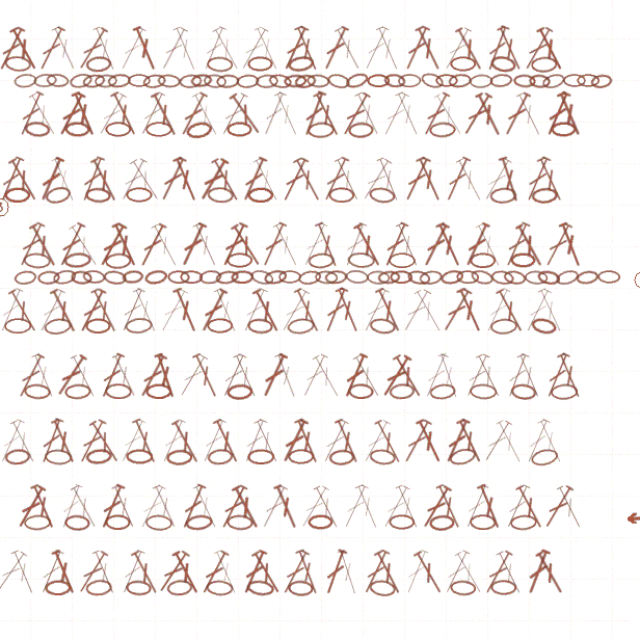chain: (442, 432, 471, 453), (53, 180, 81, 201), (521, 433, 549, 453), (189, 118, 216, 138), (521, 307, 548, 327), (287, 55, 314, 74), (482, 55, 509, 74), (365, 182, 392, 200), (53, 308, 80, 326), (287, 308, 314, 326), (189, 497, 216, 515), (248, 560, 275, 578), (342, 71, 367, 90), (366, 308, 392, 326), (424, 371, 450, 389), (502, 371, 528, 389), (366, 434, 392, 452), (366, 560, 392, 578), (72, 245, 99, 262), (345, 245, 372, 262), (131, 308, 158, 325), (415, 71, 439, 90), (15, 56, 41, 73), (93, 56, 119, 73), (34, 119, 60, 136), (210, 182, 236, 199), (385, 371, 411, 388), (15, 434, 41, 451), (93, 434, 119, 451), (210, 434, 236, 451), (93, 560, 119, 577), (171, 560, 197, 577), (325, 72, 349, 90), (532, 72, 556, 90), (482, 183, 509, 199), (33, 246, 60, 262), (251, 261, 275, 279), (463, 261, 487, 279), (545, 261, 569, 279), (209, 561, 236, 577), (307, 120, 333, 136), (424, 120, 450, 136), (522, 183, 548, 199), (307, 246, 333, 262), (483, 309, 509, 325), (34, 372, 60, 388), (73, 372, 99, 388), (463, 372, 489, 388), (541, 372, 567, 388), (54, 435, 80, 451), (327, 435, 353, 451), (34, 498, 60, 514), (151, 498, 177, 514), (229, 498, 255, 514), (502, 498, 528, 514), (77, 72, 101, 89), (61, 261, 85, 278), (149, 261, 173, 278), (264, 261, 288, 278), (434, 261, 458, 278), (210, 57, 235, 73), (522, 57, 547, 73), (346, 120, 371, 136), (93, 183, 118, 199), (112, 246, 137, 262), (249, 309, 274, 325), (229, 372, 254, 388), (171, 435, 196, 451), (73, 498, 98, 514), (424, 498, 449, 514), (132, 561, 157, 577), (288, 561, 313, 577), (444, 561, 469, 577), (151, 120, 177, 135), (132, 183, 158, 198), (385, 246, 411, 261), (15, 309, 41, 324), (112, 372, 138, 387), (132, 435, 158, 450), (249, 435, 275, 450), (297, 262, 321, 278), (402, 262, 426, 278), (527, 262, 551, 278), (249, 57, 274, 72), (444, 57, 469, 72), (73, 120, 98, 135), (112, 120, 137, 135), (229, 120, 254, 135), (541, 120, 566, 135), (15, 183, 40, 198), (249, 183, 274, 198), (327, 183, 352, 198), (229, 246, 254, 261), (463, 246, 488, 261), (502, 246, 527, 261), (93, 309, 118, 324), (210, 309, 235, 324), (151, 372, 176, 387), (346, 372, 371, 387), (288, 435, 313, 450), (112, 498, 137, 513), (307, 498, 332, 513), (385, 498, 410, 513), (463, 498, 488, 513), (54, 561, 79, 576), (483, 561, 508, 576), (90, 73, 113, 89), (148, 73, 171, 89), (269, 73, 292, 89), (24, 262, 47, 278), (110, 262, 133, 278), (218, 262, 241, 278), (414, 262, 437, 278), (483, 262, 506, 278), (495, 262, 518, 278), (565, 262, 588, 278), (294, 73, 316, 89), (579, 73, 601, 89), (24, 73, 47, 88), (43, 73, 66, 88), (55, 73, 78, 88), (114, 73, 137, 88), (442, 73, 465, 88), (482, 73, 505, 88), (90, 262, 113, 277), (202, 262, 225, 277), (323, 262, 346, 277), (343, 262, 366, 277), (194, 73, 216, 88), (380, 73, 402, 88), (128, 262, 150, 277), (162, 74, 185, 88), (183, 74, 206, 88), (238, 74, 261, 88), (374, 263, 397, 277), (102, 74, 124, 88), (207, 74, 229, 88), (219, 74, 241, 88), (257, 74, 279, 88), (284, 74, 306, 88), (306, 74, 328, 88), (463, 74, 485, 88), (505, 74, 527, 88), (47, 263, 69, 277), (314, 263, 336, 277), (364, 263, 386, 277), (516, 263, 538, 277), (520, 74, 541, 88), (79, 263, 100, 277), (134, 74, 156, 87), (364, 74, 386, 87), (394, 74, 416, 87), (430, 74, 452, 87), (553, 74, 575, 87), (566, 74, 588, 87), (172, 263, 194, 276), (184, 263, 206, 276), (233, 263, 255, 276), (279, 263, 301, 276), (386, 263, 408, 276), (450, 263, 472, 276), (586, 263, 608, 276)
double: (229, 90, 266, 135), (61, 342, 98, 387), (3, 531, 40, 576), (159, 531, 196, 576), (82, 27, 118, 73), (425, 90, 461, 136), (452, 90, 488, 136), (133, 153, 169, 199), (355, 153, 391, 199), (74, 216, 110, 262), (230, 216, 266, 262), (374, 342, 410, 388), (94, 405, 130, 451), (530, 468, 566, 514), (82, 531, 118, 577), (238, 27, 273, 73), (511, 27, 546, 73), (35, 90, 70, 136), (101, 90, 136, 136), (16, 153, 51, 199), (199, 153, 234, 199), (211, 153, 246, 199), (472, 153, 507, 199), (16, 279, 51, 325), (277, 279, 312, 325), (394, 279, 429, 325), (406, 279, 441, 325), (433, 279, 468, 325), (179, 342, 214, 388), (308, 342, 343, 388), (347, 342, 382, 388), (386, 342, 421, 388), (472, 405, 507, 451), (23, 468, 58, 514), (296, 468, 331, 514), (413, 468, 448, 514), (250, 531, 285, 577), (406, 531, 441, 577), (445, 531, 480, 577), (523, 531, 558, 577), (17, 27, 51, 73), (161, 27, 195, 73), (212, 27, 246, 73), (329, 27, 363, 73), (434, 27, 468, 73), (446, 27, 480, 73), (180, 90, 214, 136), (192, 90, 226, 136), (219, 90, 253, 136), (336, 90, 370, 136), (122, 153, 156, 199), (290, 153, 324, 199), (446, 153, 480, 199), (36, 216, 70, 262), (102, 216, 136, 262), (153, 216, 187, 262), (348, 216, 382, 262), (504, 216, 538, 262), (531, 216, 565, 262), (161, 279, 195, 325), (485, 279, 519, 325), (141, 342, 175, 388), (173, 405, 207, 451), (356, 405, 390, 451), (368, 405, 402, 451), (395, 405, 429, 451), (75, 468, 109, 514), (231, 468, 265, 514), (375, 468, 409, 514), (504, 468, 538, 514), (134, 531, 168, 577), (173, 531, 207, 577), (200, 531, 234, 577), (278, 531, 312, 577), (473, 531, 507, 577), (407, 26, 440, 73), (114, 89, 147, 136), (141, 89, 174, 136), (161, 152, 194, 199), (329, 152, 362, 199), (63, 215, 96, 262), (270, 215, 303, 262), (356, 278, 389, 325), (297, 341, 330, 388), (465, 341, 498, 388), (122, 404, 155, 451), (278, 404, 311, 451), (356, 530, 389, 577), (434, 530, 467, 577), (5, 27, 38, 73), (44, 27, 77, 73), (122, 27, 155, 73), (524, 27, 557, 73), (63, 90, 96, 136), (153, 90, 186, 136), (309, 90, 342, 136), (375, 90, 408, 136), (414, 90, 447, 136), (465, 90, 498, 136), (492, 90, 525, 136), (504, 90, 537, 136), (95, 153, 128, 199), (251, 153, 284, 199), (278, 153, 311, 199), (141, 216, 174, 262), (414, 216, 447, 262), (465, 216, 498, 262), (44, 279, 77, 325), (56, 279, 89, 325), (83, 279, 116, 325), (95, 279, 128, 325), (200, 279, 233, 325), (251, 279, 284, 325), (512, 279, 545, 325), (24, 342, 57, 388), (75, 342, 108, 388), (17, 405, 50, 451), (83, 405, 116, 451), (317, 405, 350, 451), (485, 405, 518, 451), (141, 468, 174, 514), (219, 468, 252, 514), (258, 468, 291, 514), (309, 468, 342, 514), (543, 468, 576, 514), (368, 531, 401, 577), (485, 531, 518, 577), (57, 26, 89, 73), (252, 26, 284, 73), (279, 26, 311, 73), (318, 26, 350, 73), (357, 26, 389, 73), (396, 26, 428, 73), (486, 26, 518, 73), (271, 89, 303, 136), (349, 89, 381, 136), (318, 152, 350, 199), (396, 152, 428, 199), (408, 152, 440, 199), (435, 152, 467, 199), (525, 152, 557, 199), (25, 215, 57, 262), (115, 215, 147, 262), (181, 215, 213, 262), (193, 215, 225, 262), (220, 215, 252, 262), (298, 215, 330, 262), (427, 215, 459, 262), (454, 215, 486, 262), (135, 278, 167, 325), (240, 278, 272, 325), (291, 278, 323, 325), (369, 278, 401, 325), (447, 278, 479, 325), (474, 278, 506, 325), (525, 278, 557, 325), (115, 341, 147, 388), (193, 341, 225, 388), (220, 341, 252, 388), (259, 341, 291, 388), (454, 341, 486, 388), (6, 404, 38, 451), (213, 404, 245, 451), (252, 404, 284, 451), (408, 404, 440, 451), (435, 404, 467, 451), (447, 404, 479, 451), (525, 404, 557, 451), (154, 467, 186, 514), (193, 467, 225, 514), (337, 467, 369, 514), (427, 467, 459, 514), (493, 467, 525, 514), (135, 26, 166, 73), (174, 26, 205, 73), (291, 26, 322, 73), (369, 26, 400, 73), (25, 89, 56, 136), (76, 89, 107, 136), (259, 89, 290, 136), (388, 89, 419, 136), (532, 89, 563, 136), (544, 89, 575, 136), (6, 152, 37, 199), (45, 152, 76, 199), (57, 152, 88, 199), (174, 152, 205, 199), (240, 152, 271, 199), (513, 152, 544, 199), (259, 215, 290, 262), (376, 215, 407, 262), (388, 215, 419, 262), (493, 215, 524, 262), (6, 278, 37, 325), (123, 278, 154, 325), (174, 278, 205, 325), (213, 278, 244, 325), (330, 278, 361, 325), (103, 341, 134, 388), (232, 341, 263, 388), (337, 341, 368, 388), (415, 341, 446, 388), (505, 341, 536, 388), (532, 341, 563, 388), (544, 341, 575, 388), (57, 404, 88, 451), (135, 404, 166, 451), (162, 404, 193, 451), (201, 404, 232, 451), (291, 404, 322, 451), (330, 404, 361, 451), (513, 404, 544, 451), (37, 467, 68, 514), (103, 467, 134, 514), (115, 467, 146, 514), (181, 467, 212, 514), (271, 467, 302, 514), (349, 467, 380, 514), (388, 467, 419, 514), (454, 467, 485, 514), (18, 530, 49, 577), (45, 530, 76, 577), (57, 530, 88, 577), (96, 530, 127, 577), (123, 530, 154, 577), (213, 530, 244, 577), (240, 530, 271, 577), (97, 26, 127, 73), (202, 26, 232, 73), (85, 152, 115, 199), (370, 152, 400, 199), (311, 215, 341, 262), (545, 215, 575, 262), (319, 278, 349, 325), (38, 341, 68, 388), (494, 341, 524, 388), (241, 404, 271, 451), (467, 467, 497, 514), (292, 530, 322, 577), (397, 530, 427, 577), (514, 530, 544, 577), (475, 26, 504, 73), (299, 89, 328, 136), (338, 215, 367, 262), (272, 341, 301, 388), (46, 404, 75, 451), (65, 467, 94, 514), (319, 530, 348, 577), (156, 341, 184, 388), (429, 341, 457, 388), (332, 530, 360, 577), (488, 152, 515, 199)
noise: (0, 191, 22, 214), (619, 262, 639, 282), (612, 496, 639, 507)
